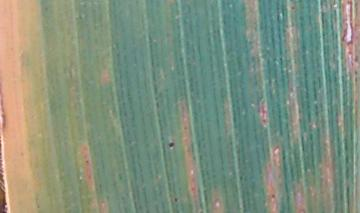tarspot: (167, 138, 176, 152), (288, 3, 299, 13), (173, 195, 180, 204), (84, 158, 90, 167), (271, 195, 277, 201)
